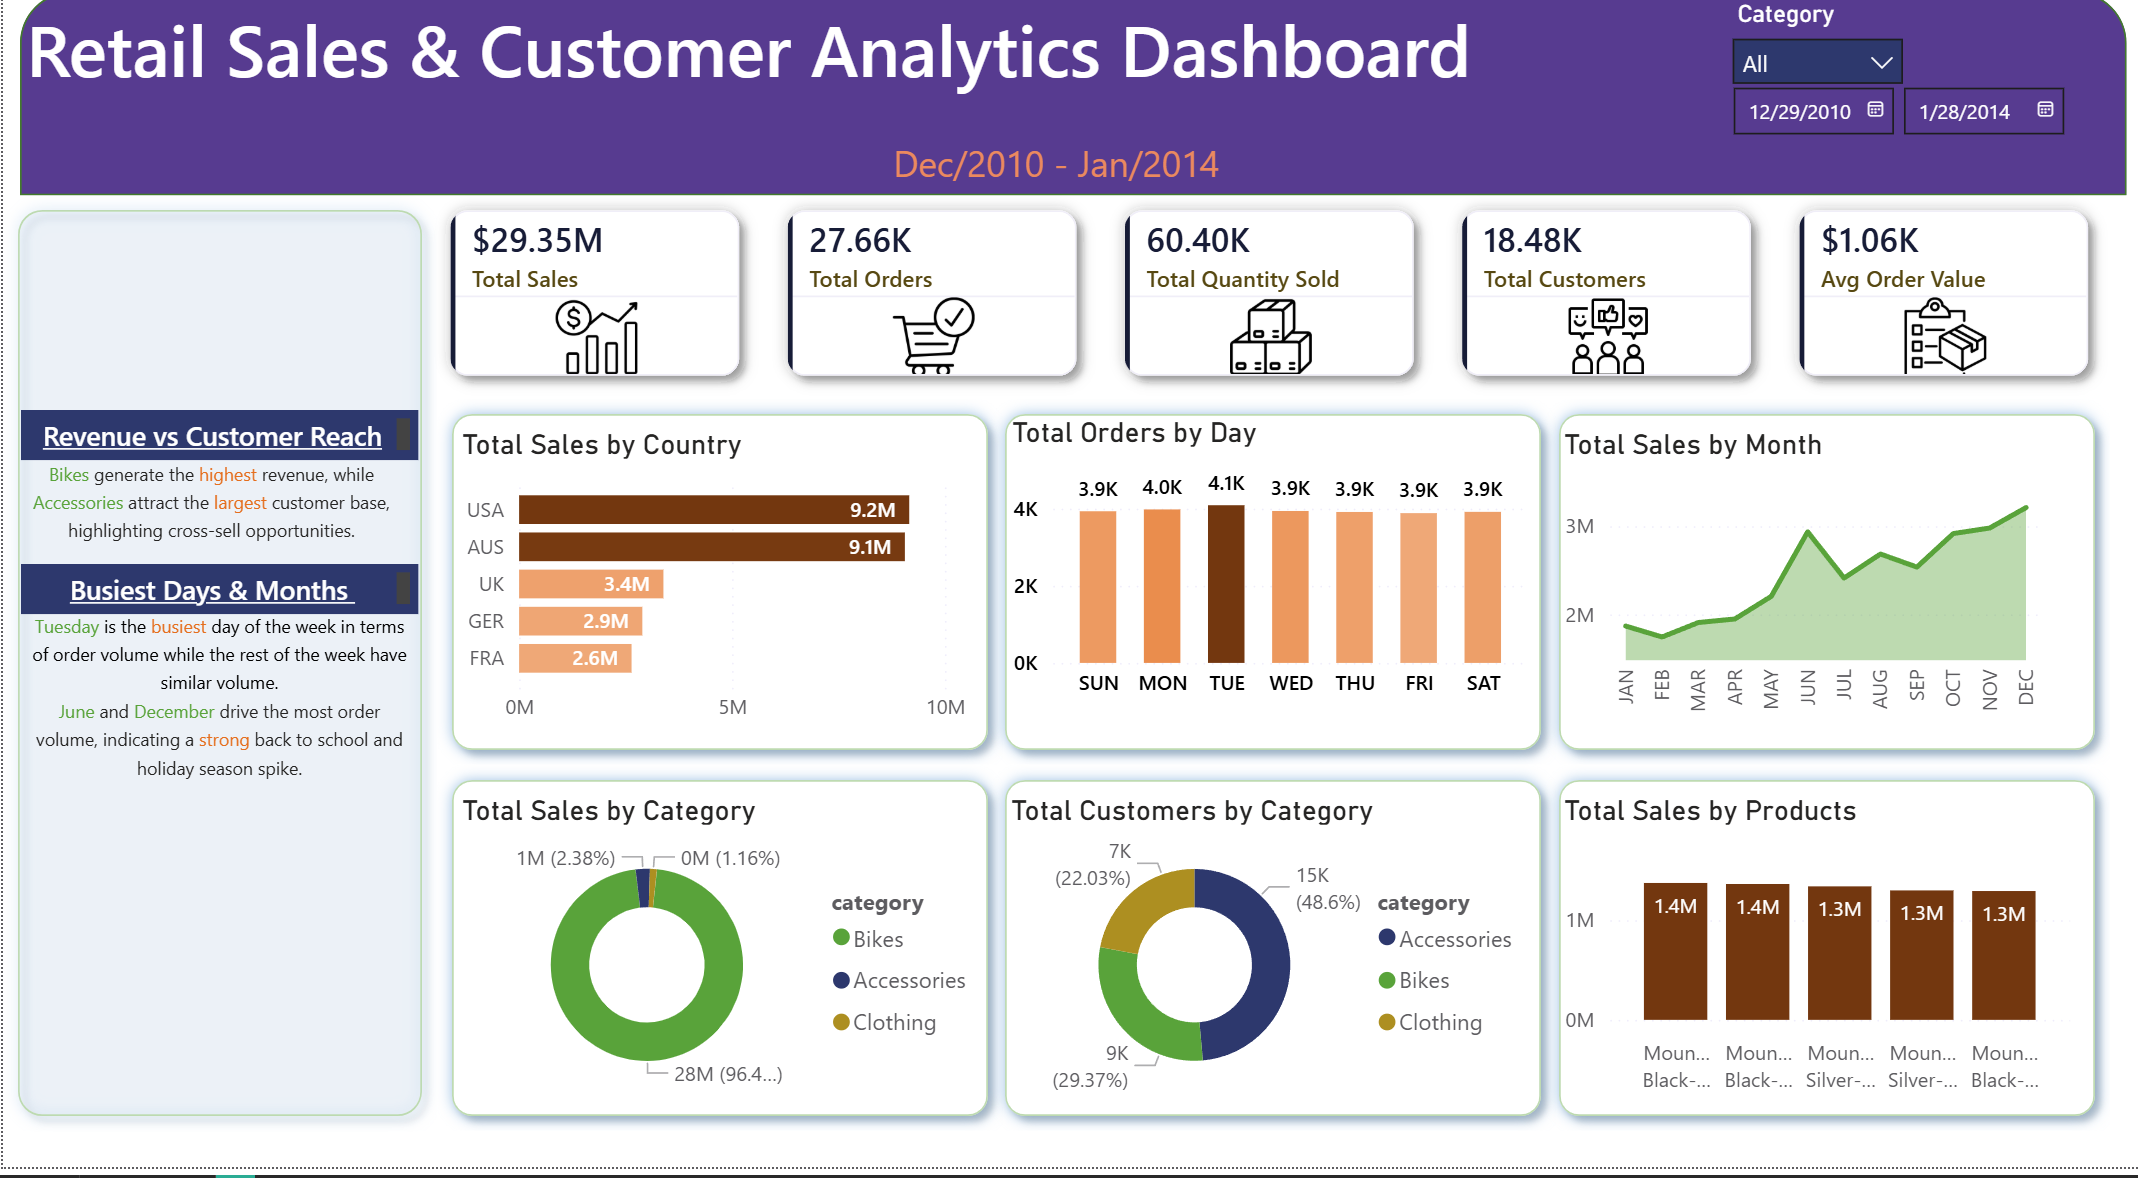

The dashboard page shown, as its layout file describes it:
{"tool":"powerbi","page":{"name":"Executive Overview","canvas":[1280,720],"ordinal":0},"visuals":[{"type":"shape","box":[0,137.8,260,560.7],"z":0},{"type":"shape","box":[923.1,479.2,339,219.2],"z":1000},{"type":"shape","box":[591.2,479.2,339,219.2],"z":2000},{"type":"shape","box":[260,479.2,339,219.2],"z":3000},{"type":"shape","box":[260,260,339,219.2],"z":4000},{"type":"shape","box":[923.1,260,339,219.2],"z":5000},{"type":"shape","box":[10,16.4,1261.8,121.8],"z":6000},{"type":"cardVisual","fields":{"Data":["sales.Total Sales","sales.Total Orders","sales.Total Quantity Sold","sales.Total Customers","sales.Avg Order Value"]},"box":[239,118,1041,157],"z":7000},{"type":"textbox","box":[9.1,16.4,1261.8,144.5],"z":8000},{"type":"textbox","box":[0,99.1,1261.8,61.8],"z":9000},{"type":"shape","box":[591.2,260,339,219.2],"z":10000},{"type":"columnChart","title":"Total Orders by Day","fields":{"Category":["sales.Order Day"],"Y":["sales.Total Orders"]},"box":[599.6,269.6,319.3,178.5],"z":11000},{"type":"areaChart","title":"Total Sales by Month","fields":{"Y":["sales.Total Sales"],"Category":["sales.Order Month"]},"box":[930.2,276.7,295.3,185.7],"z":12000},{"type":"donutChart","title":"Total Sales by Category","fields":{"Category":["products.category"],"Y":["sales.Total Sales"]},"box":[270.1,496,321.1,186.9],"z":13000},{"type":"donutChart","title":"Total Customers by Category","fields":{"Category":["products.category"],"Y":["sales.Total Customers"]},"box":[599,496,319.3,186.9],"z":14000},{"type":"barChart","title":"Total Sales by Country","fields":{"Y":["sales.Total Sales"],"Category":["customers.Country Abbrev"]},"box":[270.1,276.7,315.1,185.7],"z":15000},{"type":"columnChart","title":"Total Sales by Products","fields":{"Category":["products.product_name"],"Y":["sales.Total Sales"]},"box":[930.2,496,313.3,186.9],"z":16000},{"type":"textbox","box":[10.8,358.8,237.8,30],"z":17000},{"type":"textbox","box":[6,289.9,237.8,61.1],"z":18000},{"type":"textbox","box":[10.8,266.6,237.8,30],"z":19000},{"type":"textbox","box":[10.8,381,237.8,115],"z":20000},{"type":"slicer","title":"Category","fields":{"Values":["products.category"]},"box":[1026.1,16.2,122.2,56.3],"z":21000},{"type":"slicer","title":"Category","fields":{"Values":["sales.order_date"]},"box":[1023.7,63.5,219.8,70.1],"z":22000}]}

Visuals, with their boxes in screenshot pixels (x1, y1, x2, y2), scaled from the page's 1280x720 canvas onto the 2138x1178 screenshot:
shape: (0, 225, 434, 1143)
shape: (1542, 784, 2108, 1143)
shape: (987, 784, 1554, 1143)
shape: (434, 784, 1001, 1143)
shape: (434, 425, 1001, 784)
shape: (1542, 425, 2108, 784)
shape: (17, 27, 2124, 226)
cardVisual - sales.Total Sales x sales.Total Orders: (399, 193, 2137, 450)
textbox: (15, 27, 2123, 263)
textbox: (0, 162, 2108, 263)
shape: (987, 425, 1554, 784)
"Total Orders by Day" columnChart: (1002, 441, 1535, 733)
"Total Sales by Month" areaChart: (1554, 453, 2047, 757)
"Total Sales by Category" donutChart: (451, 812, 987, 1117)
"Total Customers by Category" donutChart: (1001, 812, 1534, 1117)
"Total Sales by Country" barChart: (451, 453, 977, 757)
"Total Sales by Products" columnChart: (1554, 812, 2077, 1117)
textbox: (18, 587, 415, 636)
textbox: (10, 474, 407, 574)
textbox: (18, 436, 415, 485)
textbox: (18, 623, 415, 812)
"Category" slicer: (1714, 27, 1918, 119)
"Category" slicer: (1710, 104, 2077, 219)
